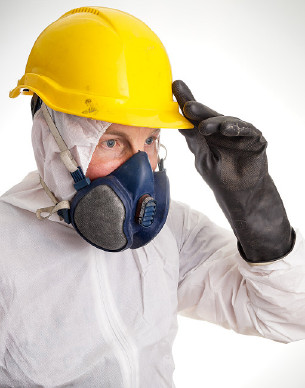face_mask: (73, 100, 163, 234)
